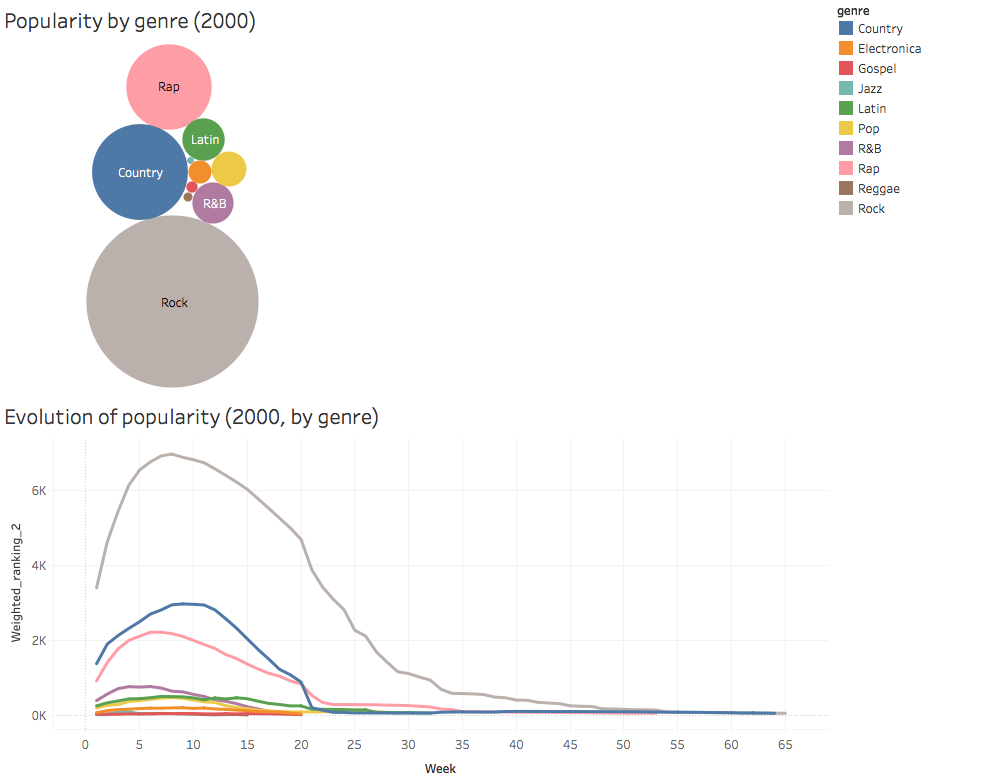

This screenshot's page, from the dashboard's own definition file:
{"tool":"tableau","page":{"name":"Dashboard 4","canvas":[1000,800],"ordinal":3},"visuals":[{"type":"worksheet","title":"Popularity by genre (2000)","mark":"Circle","box":[0,0,840,400]},{"type":"legend","title":"Popularity by genre (2000)","param":"[federated.1nb2smy0bcvwan155qe3607f75su].[none:genre:nk]","box":[840,0,160,230]},{"type":"worksheet","title":"Evolution of popularity (2000, by genre)","mark":"Automatic","rows":["Calculation_1839227868229832705"],"cols":["Week"],"box":[0,400,840,400]}]}

Visuals, with their boxes in screenshot pixels (x1, y1, x2, y2), scaled from the page's 1000x800 canvas onto the 984x784 screenshot:
"Popularity by genre (2000)" worksheet (Circle marks): bbox=(0, 0, 827, 392)
"Popularity by genre (2000)" legend: bbox=(827, 0, 983, 225)
"Evolution of popularity (2000, by genre)" worksheet: bbox=(0, 392, 827, 783)
